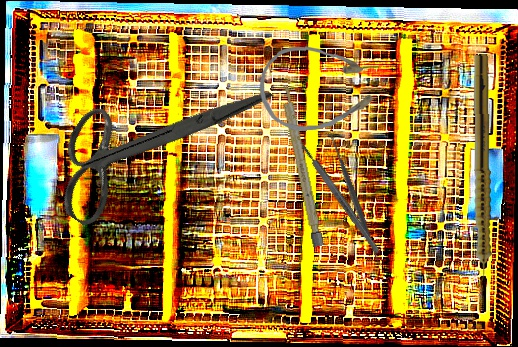Cannula: (258, 43, 383, 133)
Handpiece: (468, 54, 493, 288)
Iris Scissors: (32, 13, 274, 273)
Scalpel Handle: (296, 138, 382, 256), (278, 83, 325, 248)
Spatula Surgical: (322, 129, 387, 269)
